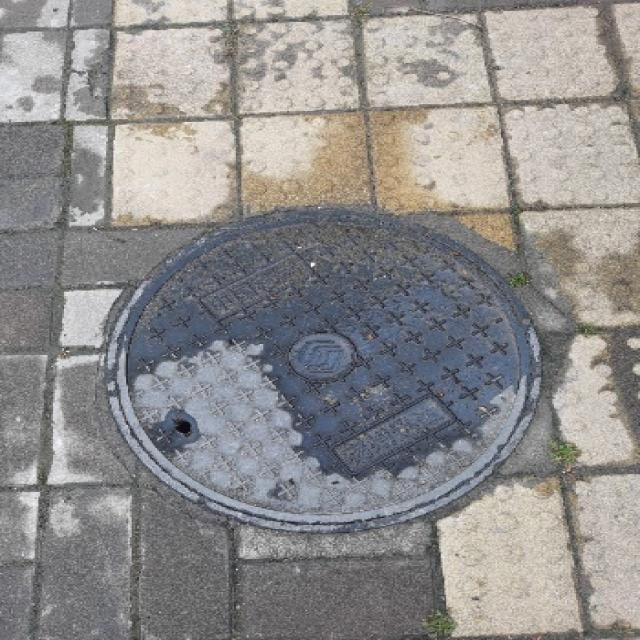Good: (96, 200, 560, 533)
